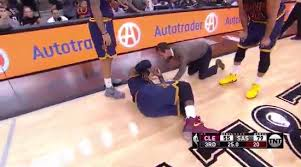10+: (1, 1, 301, 135)
down: (123, 58, 203, 135)
